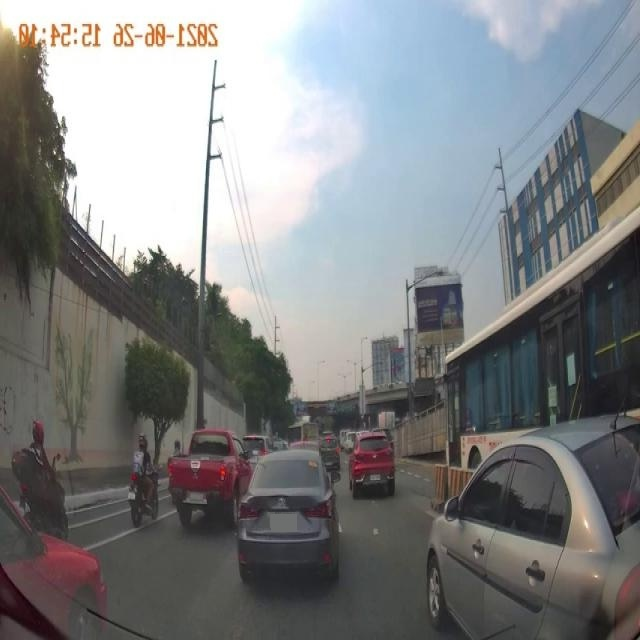bus: (0, 207, 500, 482)
car: (426, 416, 640, 640), (348, 431, 400, 506), (319, 434, 341, 477)
motorcycle: (20, 412, 69, 540), (130, 436, 157, 540)
